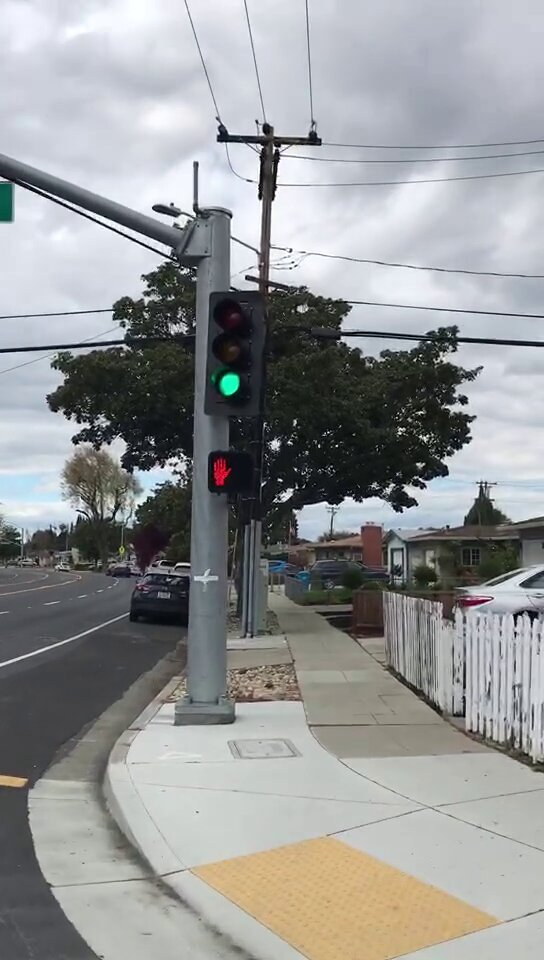green_light: (209, 293, 260, 415)
